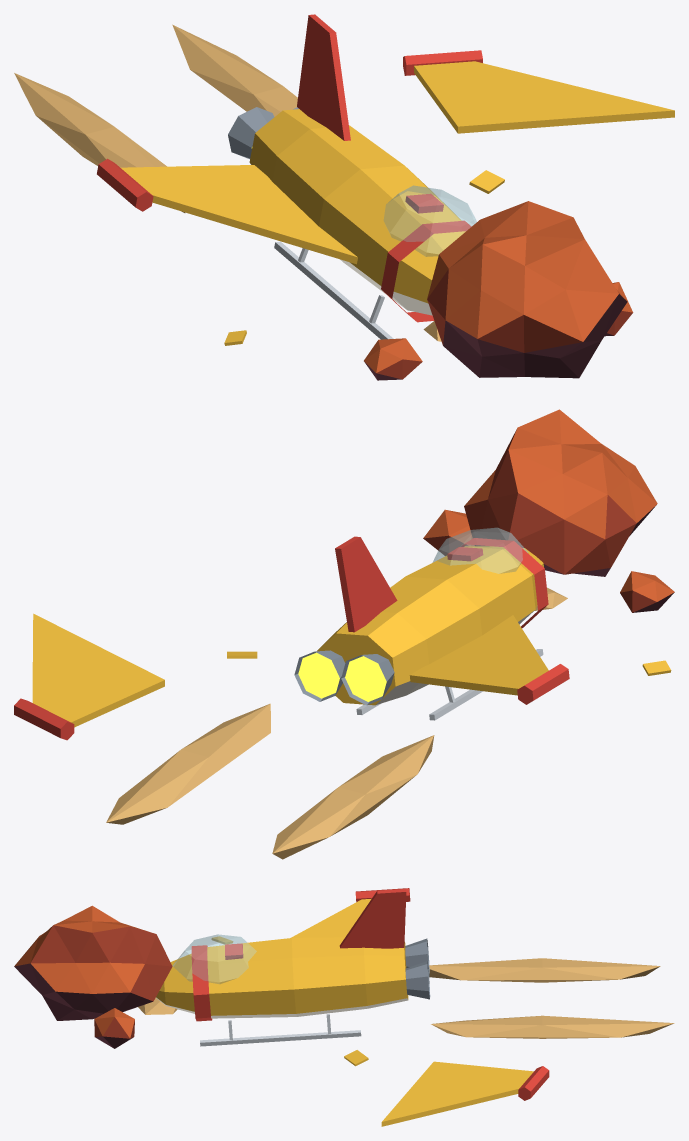
File: Ship_Rocket_Shuttle_Crashed.fbx
3 views of the same model, one above another, from view 1: azimuth 30°, elevation 25°; view 2: azimuth 150°, elevation 25°; view 3: azimuth 270°, elevation 25° (orthographic). The views are drawn at different scales.
Parts seen in each view (by area): view 1: Ship_Rocket_Shuttle_Crashed_Body, Ship_Rocket_Shuttle_Crashed_Crater, Ship_Rocket_Shuttle_Crashed_Loose_Wing, Ship_Rocket_Shuttle_Crashed_Debris; view 2: Ship_Rocket_Shuttle_Crashed_Crater, Ship_Rocket_Shuttle_Crashed_Body, Ship_Rocket_Shuttle_Crashed_Loose_Wing; view 3: Ship_Rocket_Shuttle_Crashed_Body, Ship_Rocket_Shuttle_Crashed_Crater, Ship_Rocket_Shuttle_Crashed_Loose_Wing.
Part boxes in pixels (box(x1,y1,x2,y2)): Ship_Rocket_Shuttle_Crashed_Body: box(97, 14, 476, 339); Ship_Rocket_Shuttle_Crashed_Crater: box(14, 24, 633, 380); Ship_Rocket_Shuttle_Crashed_Loose_Wing: box(403, 50, 674, 133); Ship_Rocket_Shuttle_Crashed_Debris: box(224, 170, 504, 345); Ship_Rocket_Shuttle_Crashed_Crater: box(106, 409, 674, 859); Ship_Rocket_Shuttle_Crashed_Body: box(294, 527, 569, 720); Ship_Rocket_Shuttle_Crashed_Loose_Wing: box(14, 613, 164, 740); Ship_Rocket_Shuttle_Crashed_Body: box(156, 888, 430, 1046); Ship_Rocket_Shuttle_Crashed_Crater: box(14, 905, 674, 1048); Ship_Rocket_Shuttle_Crashed_Loose_Wing: box(381, 1061, 549, 1126).
Size of the model in its own units: 10.11 by 3.76 by 14.76.
